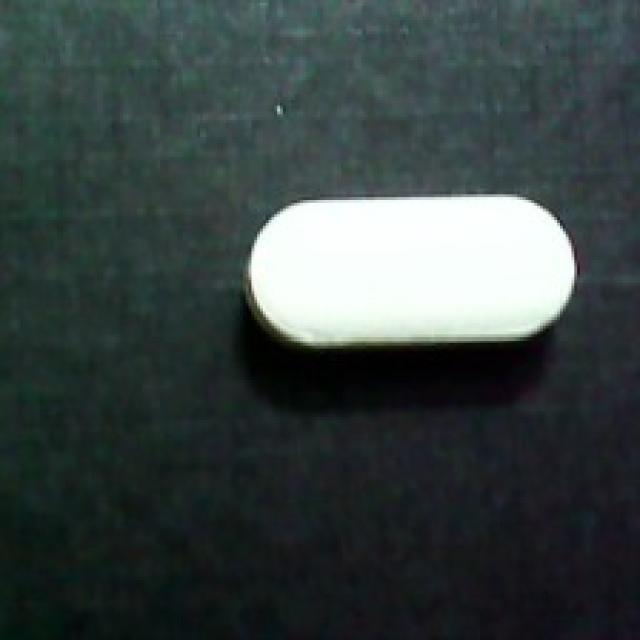no-defect: (240, 191, 580, 357)
